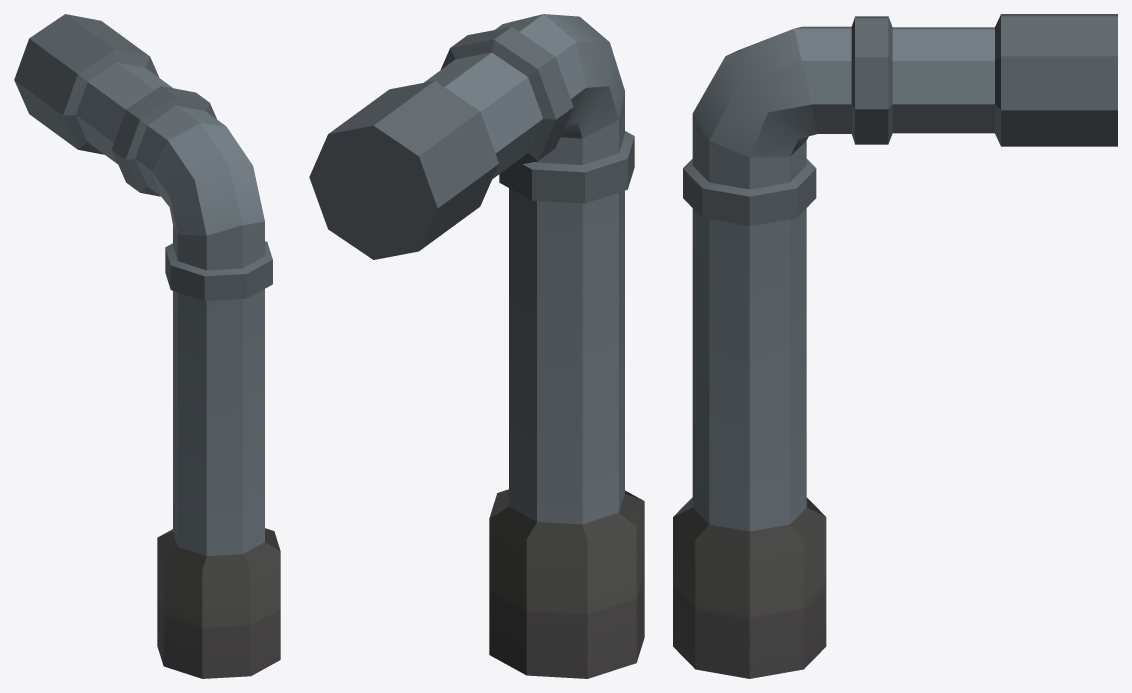
The model's file is SM_Bld_GasTower_Pipe_03.fbx.
The picture shows the model from 3 angles, left to right: view 1: azimuth 30°, elevation 25°; view 2: azimuth 150°, elevation 25°; view 3: azimuth 270°, elevation 25°; orthographic projection. The views are drawn at different scales.
Parts seen in each view (by area): view 1: SM_Bld_GasTower_Pipe_03; view 2: SM_Bld_GasTower_Pipe_03; view 3: SM_Bld_GasTower_Pipe_03.
Part boxes in pixels (left/top/right/bottom): SM_Bld_GasTower_Pipe_03: left=14, top=14, right=280, bottom=678; SM_Bld_GasTower_Pipe_03: left=309, top=14, right=644, bottom=678; SM_Bld_GasTower_Pipe_03: left=673, top=14, right=1117, bottom=678.
Size of the model in its own units: 177 by 802 by 513.
